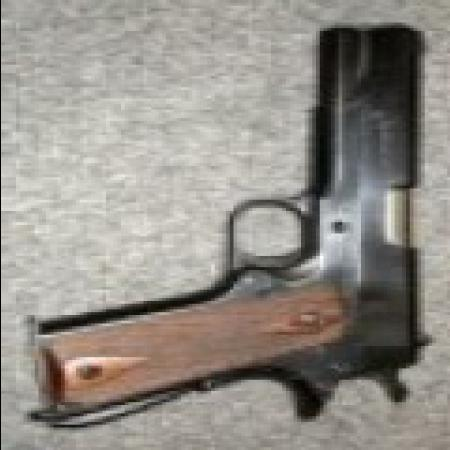Pistol: (37, 28, 438, 438)
